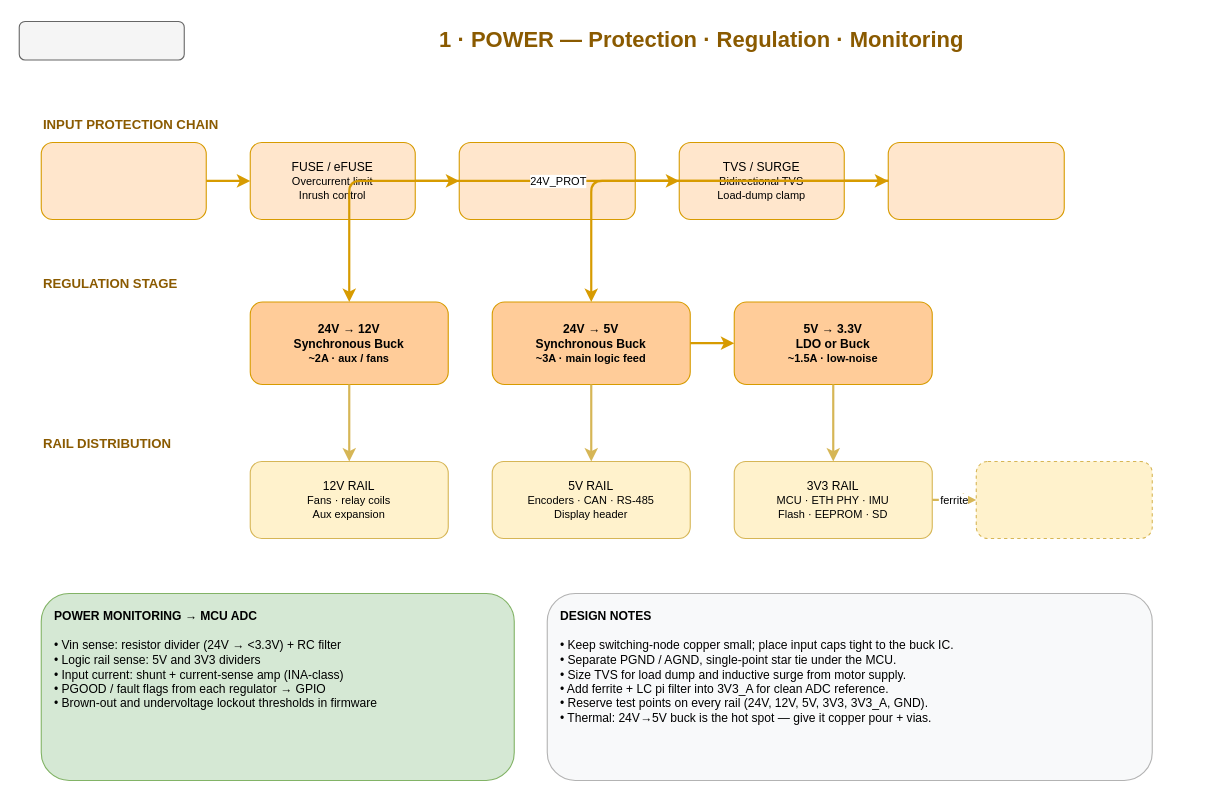
Some shapes in this 1205 by 800 pixel diagram are drawn without their labels. Each missing label, with the centre of its shape:
"3V3_A (ANALOG) Ferrite bead + bulk VDDA / VREF+" belongs at point 1063,499.
"BULK + EMI FILTER Electrolytic bulk Common-mode choke" belongs at point 975,180.
"J1 — 24V DC IN 18–36V range +24V / GND / PE" belongs at point 123,180.
"REVERSE POLARITY P-channel MOSFET (low drop vs diode)" belongs at point 546,180.
"◀ Back to Overview" belongs at point 101,40.
